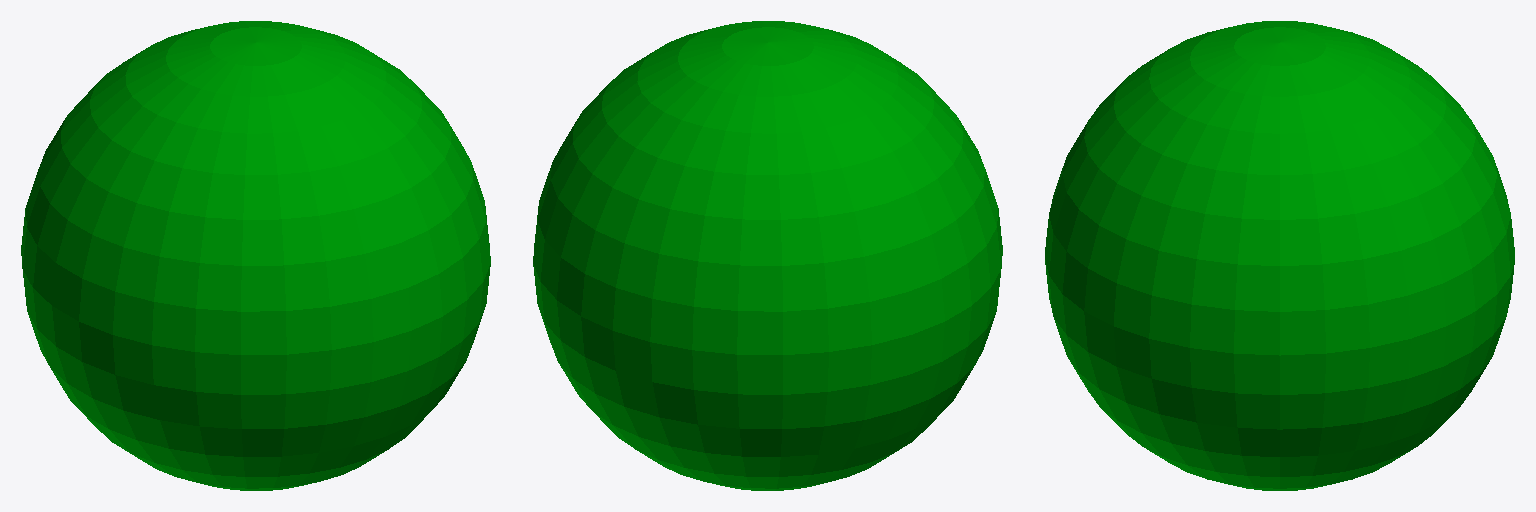
The model's file is ballg.obj.
The picture shows the model from 3 angles: view 1: azimuth 30°, elevation 25°; view 2: azimuth 150°, elevation 25°; view 3: azimuth 270°, elevation 25°; orthographic projection.
Parts seen in each view (by area): view 1: Sphere; view 2: Sphere; view 3: Sphere.
Part boxes in pixels (x1,y1,x2,y2): Sphere: (21, 21, 490, 490); Sphere: (533, 21, 1002, 490); Sphere: (1045, 21, 1514, 490).
Bounding box in the file's own units: 1 × 1 × 1.